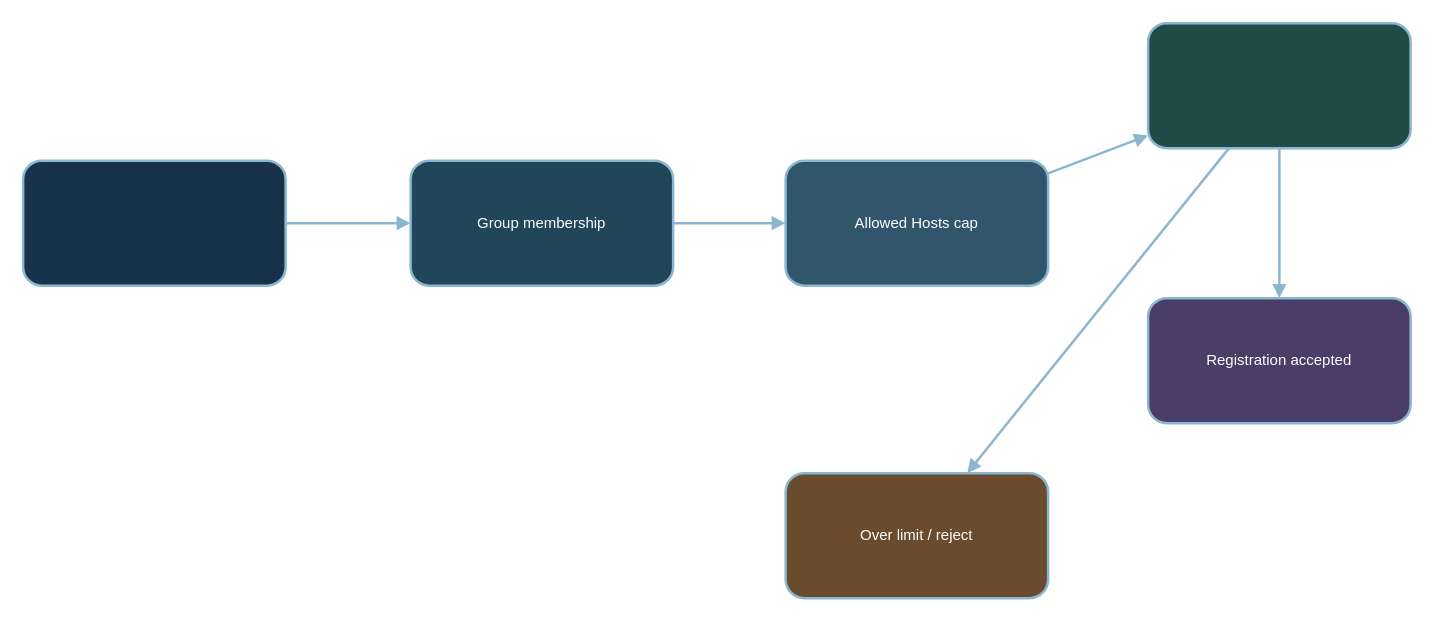
This 1433x620 diagram has some shape labels left out. Here are the shapes that lost their labels. From the top down, the centre of each, then its label:
pixel 1278 85: Host record count
pixel 153 222: User identity
